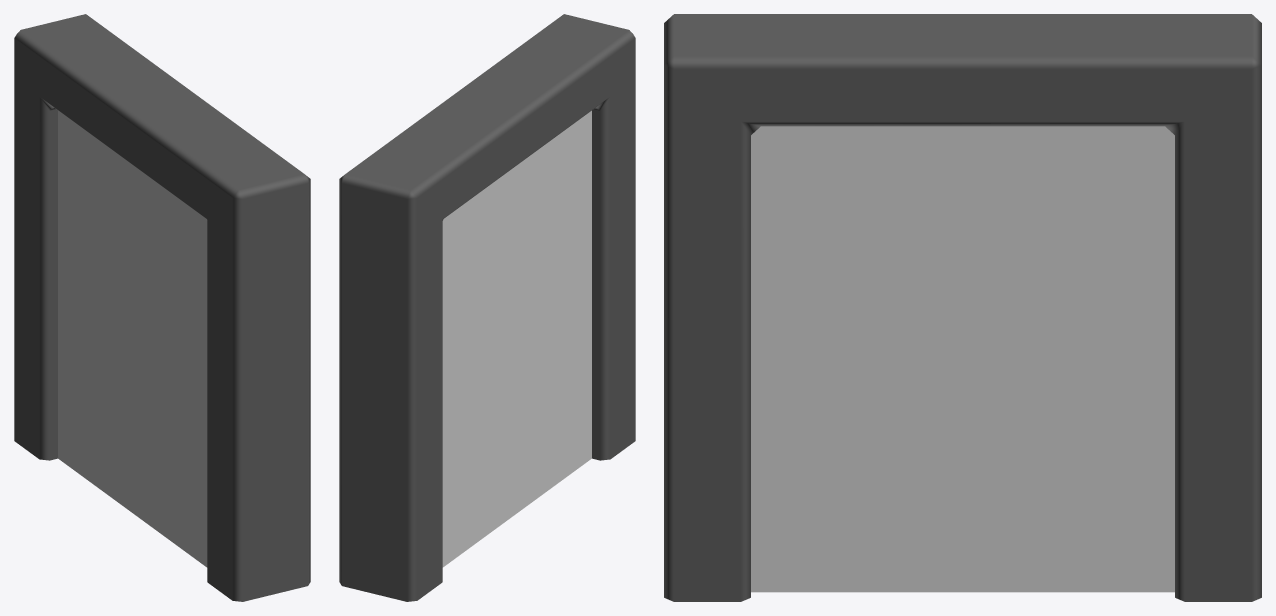
File: Door.fbx
3 views of the same model, side by side, from view 1: azimuth 30°, elevation 25°; view 2: azimuth 150°, elevation 25°; view 3: azimuth 270°, elevation 25° (orthographic). The views are drawn at different scales.
Visible parts, largest first — view 1: Door_Frame, Door; view 2: Door_Frame, Door; view 3: Door, Door_Frame.
Boxes of the visible parts, x1,y1,x2,y2 form: Door_Frame: (14, 14, 310, 601); Door: (58, 110, 207, 567); Door_Frame: (339, 14, 635, 601); Door: (442, 110, 591, 567); Door: (751, 126, 1174, 592); Door_Frame: (664, 14, 1261, 601).
Size of the model in its own units: 0.8 by 4 by 4.
